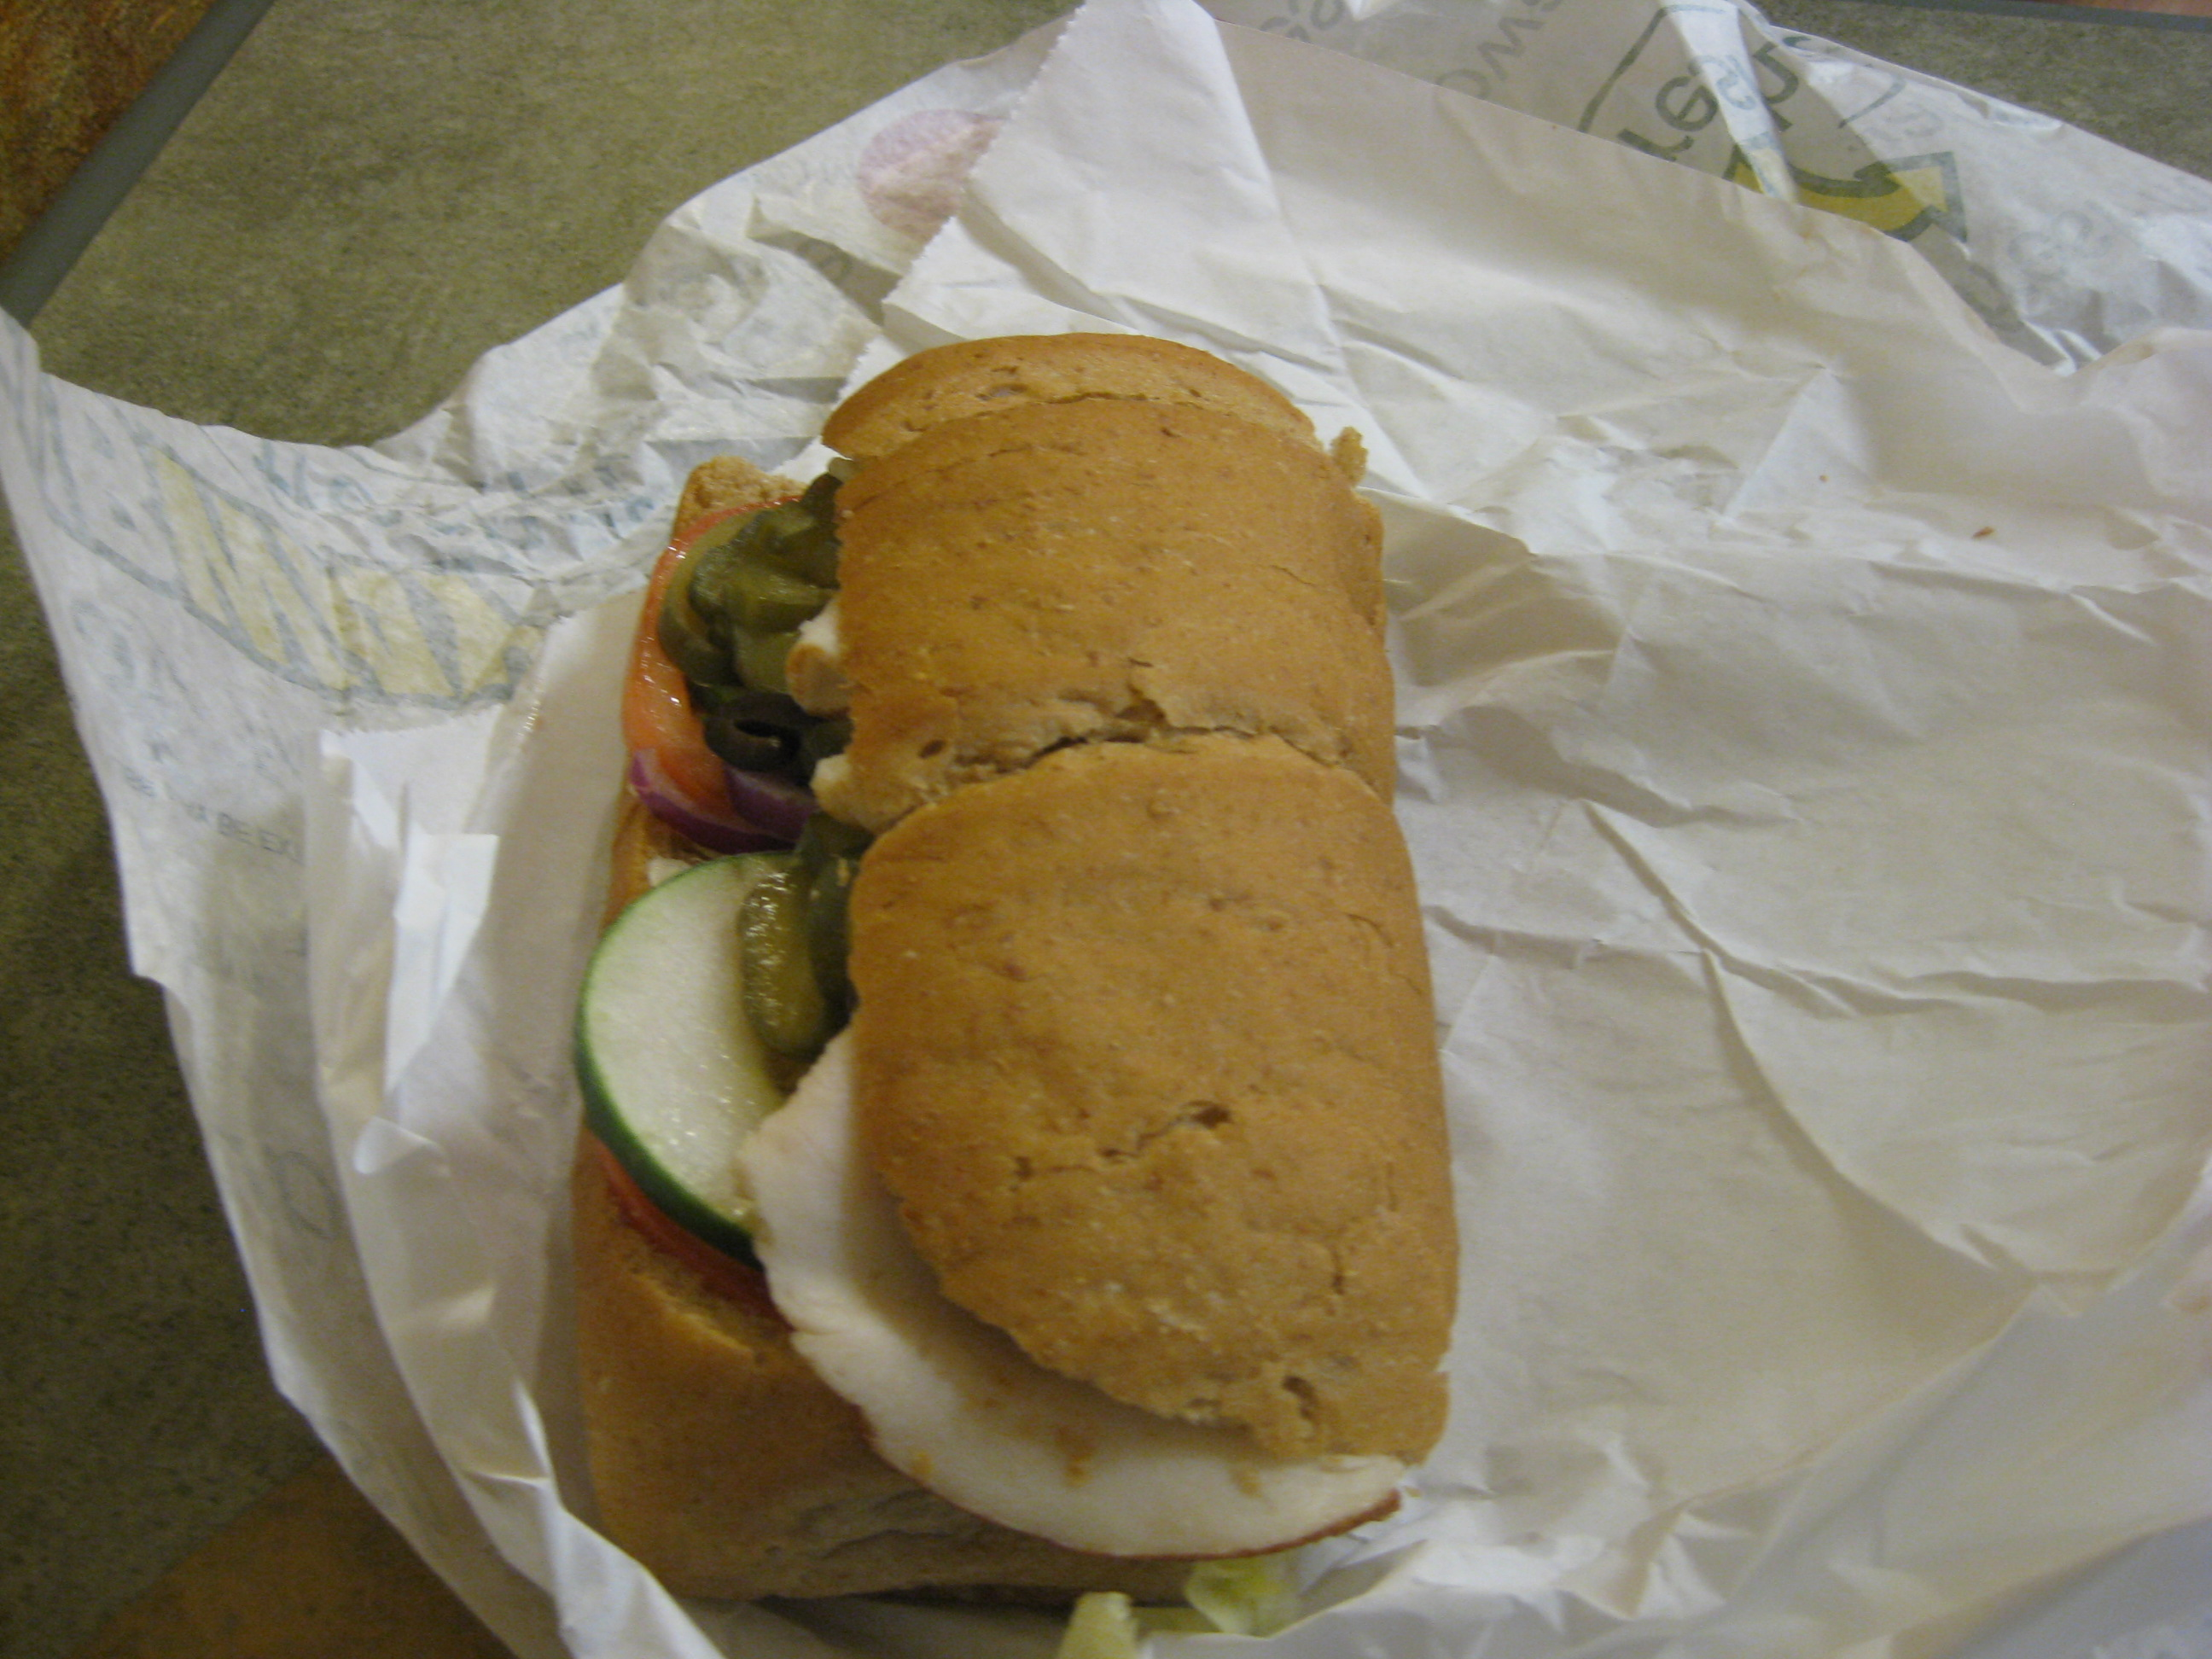sub: (546, 310, 1499, 1636)
